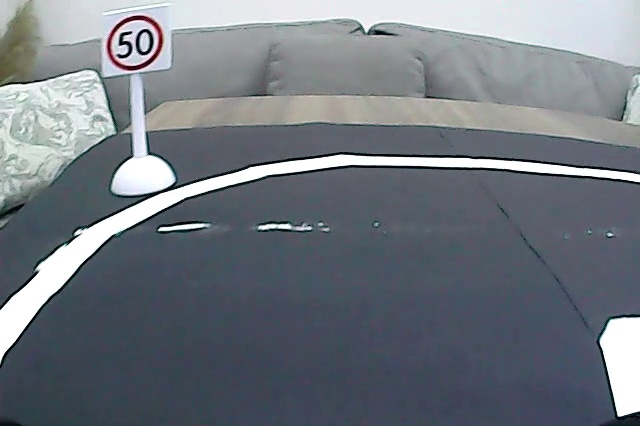speed limit 50: (104, 12, 166, 74)
